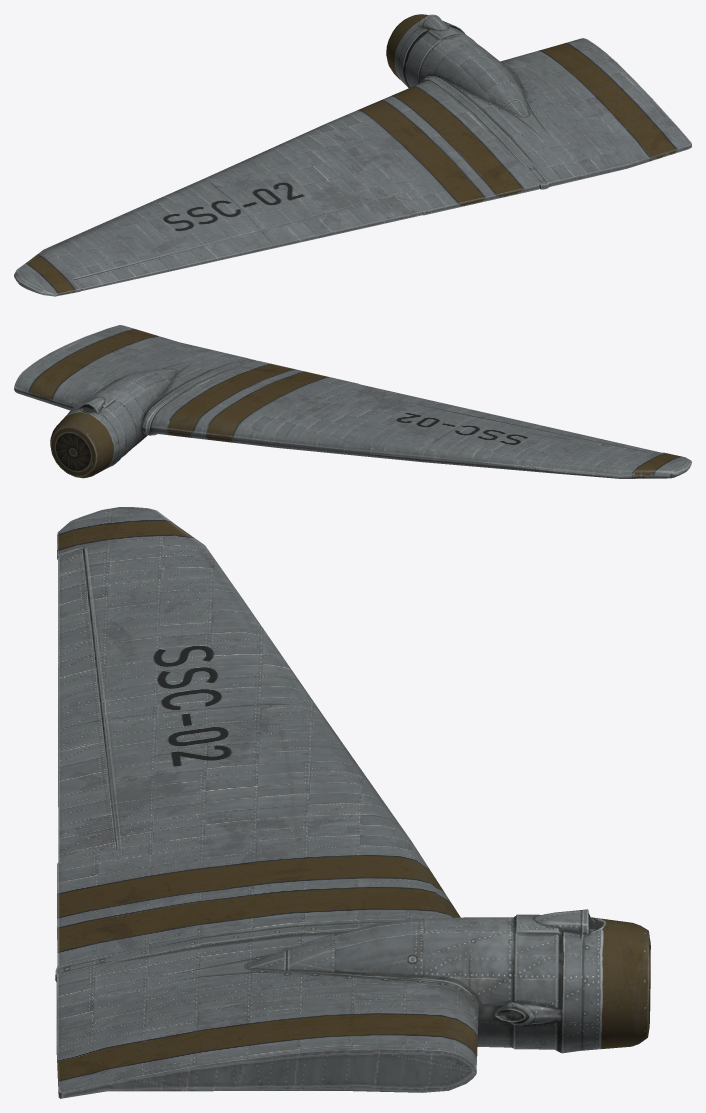
File: plane_wing.dae
The picture shows the model from 3 angles, top to bottom: view 1: azimuth 30°, elevation 25°; view 2: azimuth 150°, elevation 25°; view 3: azimuth 270°, elevation 25°; orthographic projection. The views are drawn at different scales.
Parts seen in each view (by area): view 1: intro_plane_wing; view 2: intro_plane_wing; view 3: intro_plane_wing.
Part boxes in pixels (box(x1,y1,x2,y2)): intro_plane_wing: box(14, 14, 691, 296); intro_plane_wing: box(14, 325, 691, 478); intro_plane_wing: box(55, 507, 650, 1098).
Size of the model in its own units: 1415 by 159 by 625.
